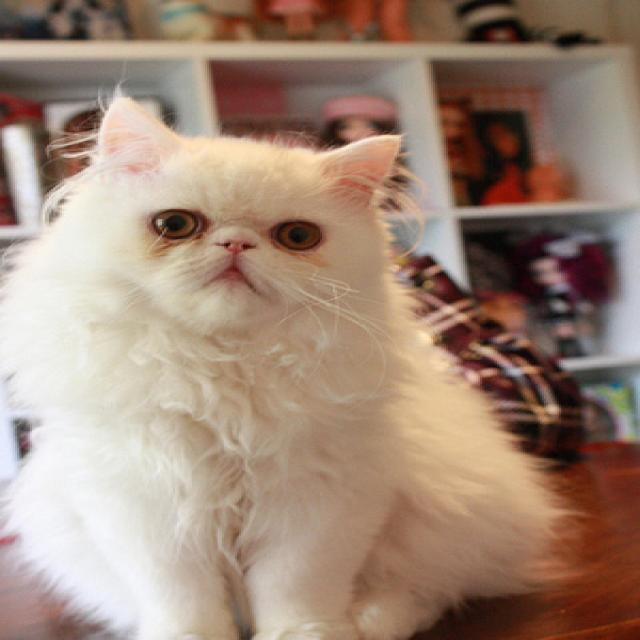Persian: (0, 89, 567, 640)
